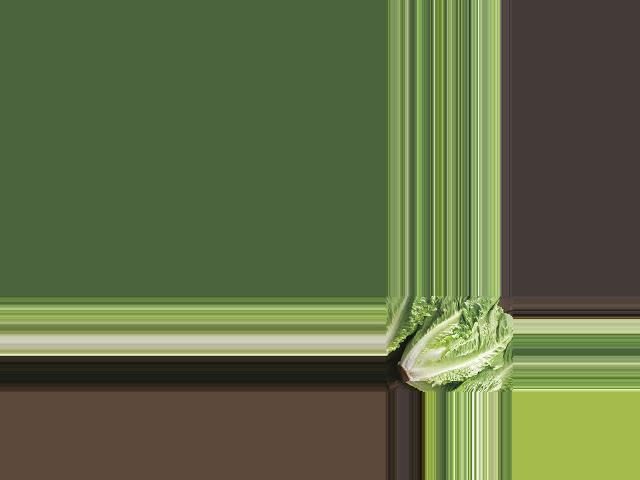lettuce: (392, 302, 511, 393)
